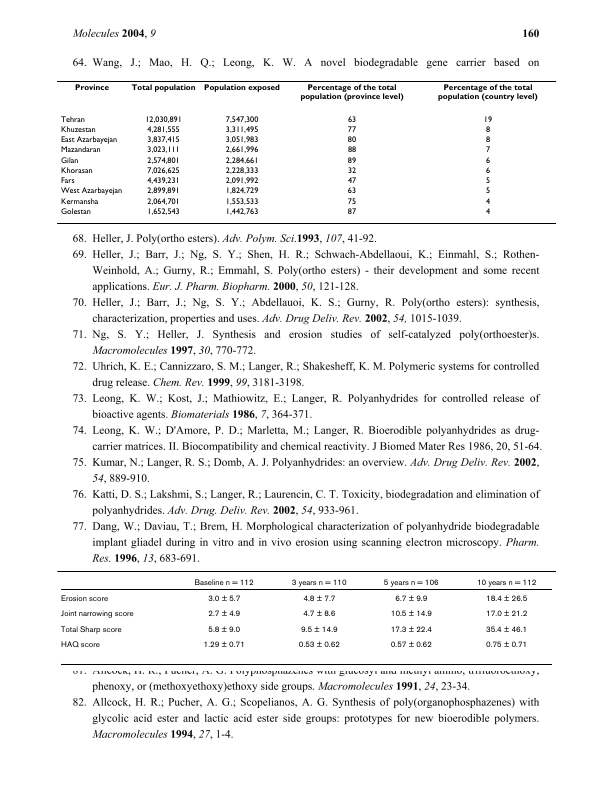borderless: (56, 79, 556, 223), (56, 569, 552, 664)
cell: (299, 84, 404, 102), (437, 84, 538, 102), (59, 610, 134, 620), (203, 84, 280, 93), (59, 625, 122, 635), (475, 578, 537, 588), (193, 578, 254, 588), (130, 84, 196, 93), (59, 187, 123, 196), (290, 578, 347, 588), (382, 578, 439, 588), (59, 136, 118, 145), (59, 594, 108, 604), (484, 594, 528, 604), (484, 610, 528, 620), (484, 625, 528, 635), (484, 641, 528, 651), (389, 610, 432, 620), (389, 625, 432, 635), (202, 641, 245, 651), (297, 641, 340, 651), (389, 641, 432, 651), (59, 641, 100, 651), (59, 197, 99, 207), (299, 625, 338, 635), (144, 115, 182, 125), (59, 146, 101, 155), (59, 125, 96, 135), (224, 115, 259, 125), (224, 125, 259, 135), (224, 156, 259, 166), (224, 166, 259, 176), (224, 197, 259, 207), (224, 207, 259, 217), (146, 125, 180, 135), (146, 156, 180, 166), (59, 166, 93, 176), (146, 166, 180, 176), (146, 197, 180, 207), (146, 207, 180, 217), (207, 594, 241, 604), (302, 594, 336, 604), (394, 594, 428, 604), (207, 610, 241, 620), (302, 610, 336, 620), (207, 625, 241, 635), (59, 207, 91, 217), (74, 84, 109, 93), (224, 136, 259, 145), (224, 146, 259, 155), (224, 177, 259, 186), (224, 187, 259, 196), (146, 136, 180, 145), (146, 146, 180, 155), (146, 177, 180, 186), (146, 187, 180, 196), (59, 115, 85, 125), (59, 156, 79, 166), (59, 177, 75, 186), (346, 115, 357, 125), (482, 115, 493, 125), (346, 125, 357, 135), (346, 156, 357, 166), (346, 166, 357, 176), (346, 197, 357, 207), (346, 207, 357, 217), (346, 136, 357, 145), (346, 146, 357, 155), (346, 177, 357, 186), (346, 187, 357, 196), (484, 166, 491, 176), (484, 207, 491, 217), (484, 136, 491, 145), (484, 146, 491, 155), (484, 177, 491, 186), (484, 187, 491, 196), (484, 125, 490, 135), (484, 156, 490, 166), (484, 197, 490, 207)
